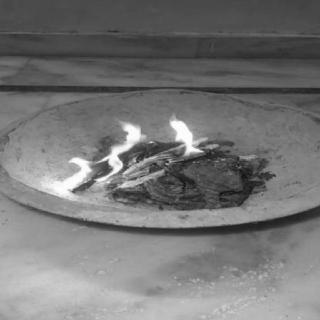Fire: (49, 115, 155, 192), (161, 111, 215, 159)
